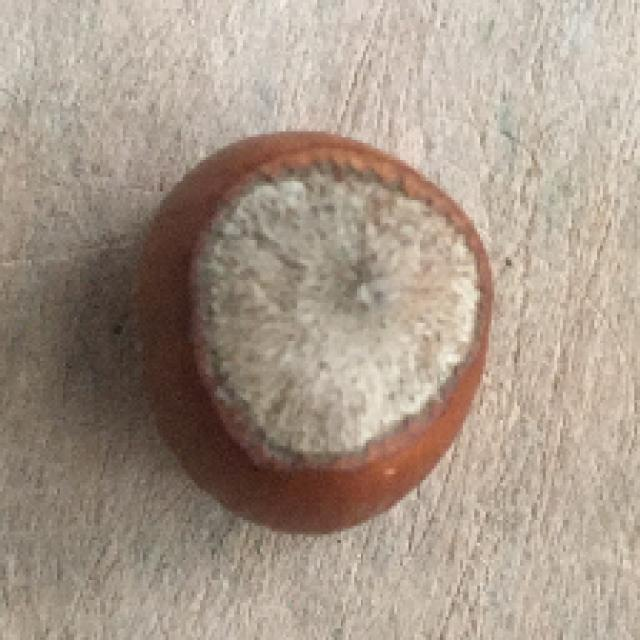qualityHazelnut: (121, 123, 498, 534)
